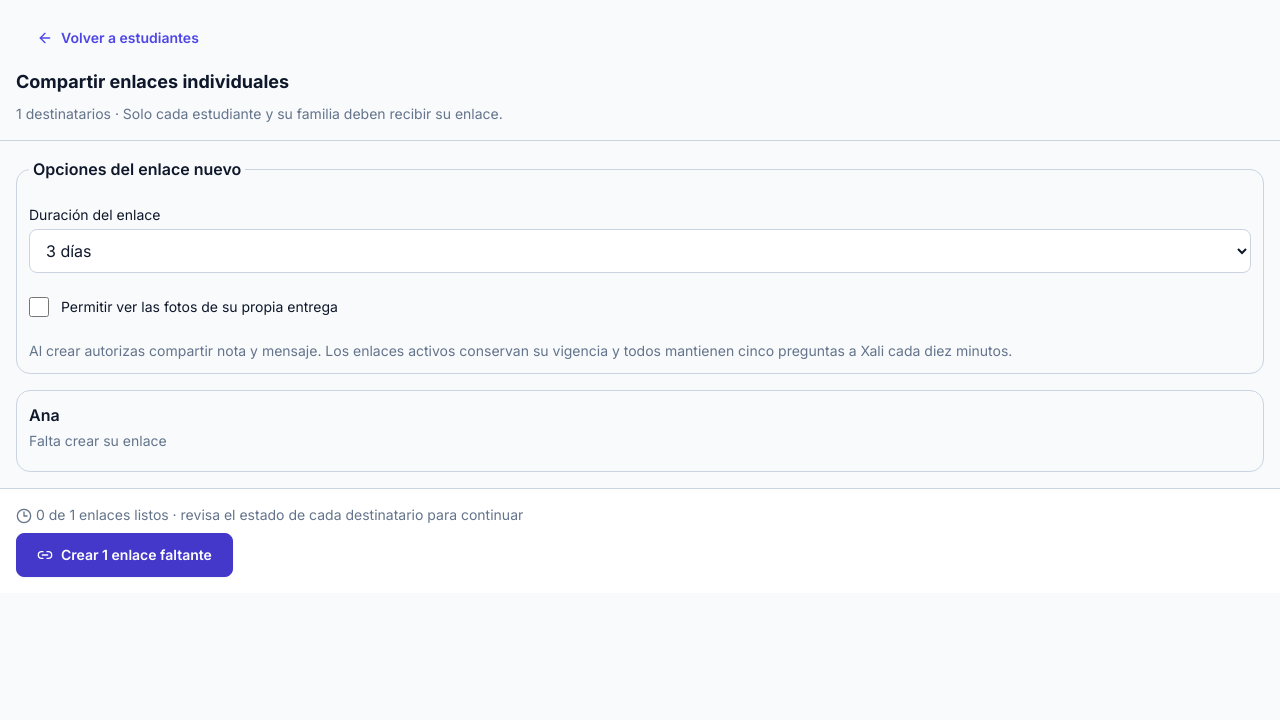
Test: 129 mismo panel de compartir y copia › explica el almacenamiento bloqueado sin mandar una creación imposible de recuperar
Click the button "Crear 1 enlace faltante": (124, 555) [16, 533, 233, 577]
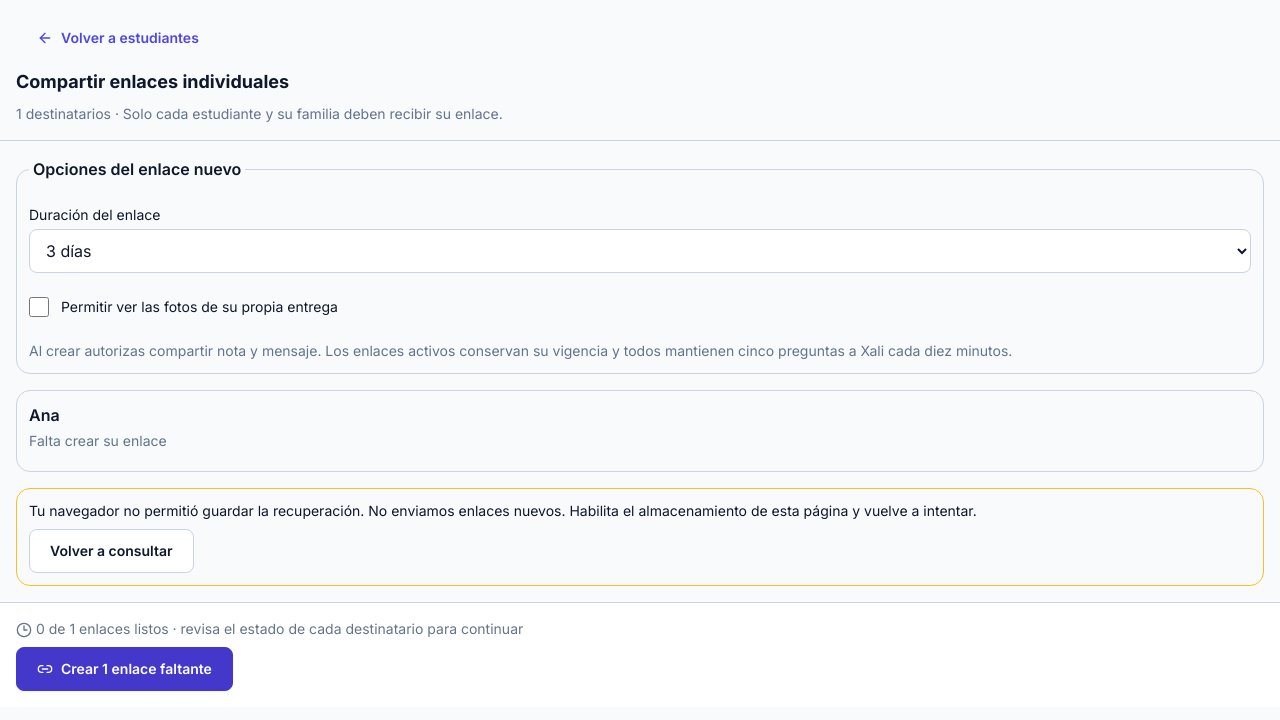
Check: the message shows "No enviamos enlaces nuevos", box [29, 502, 977, 519]
